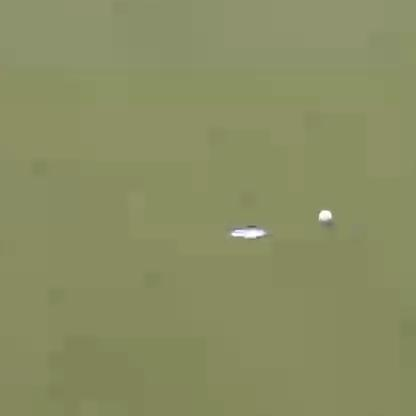golfball: (317, 208, 332, 223)
